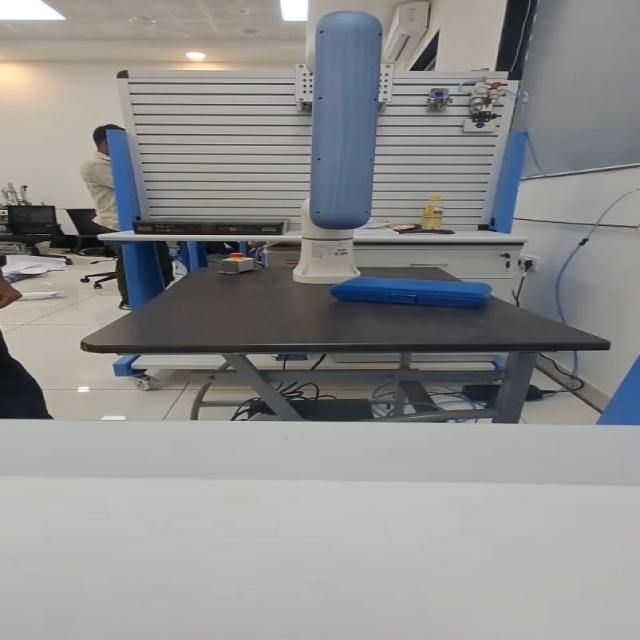top-surface: (354, 277, 478, 291)
